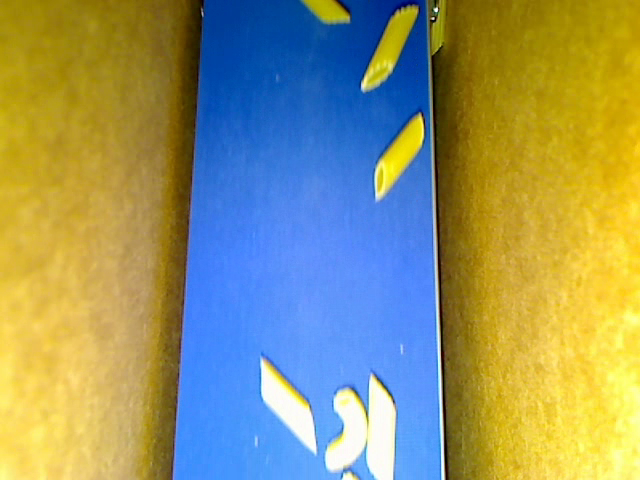elbow: (318, 385, 368, 476)
penne: (369, 106, 431, 209), (253, 352, 315, 454), (360, 1, 417, 96), (362, 373, 397, 479), (295, 1, 356, 31), (427, 1, 451, 60)
